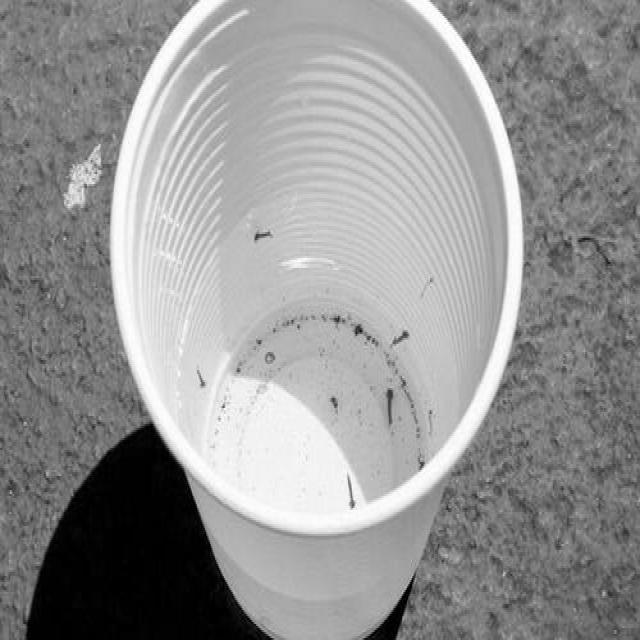larvas: (346, 475, 356, 508), (386, 386, 394, 424), (252, 231, 273, 243), (392, 329, 408, 344), (196, 366, 206, 389), (429, 405, 436, 431), (266, 349, 275, 365)
